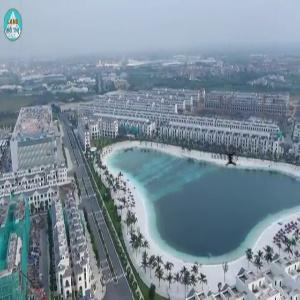drone: (214, 141, 250, 177)
